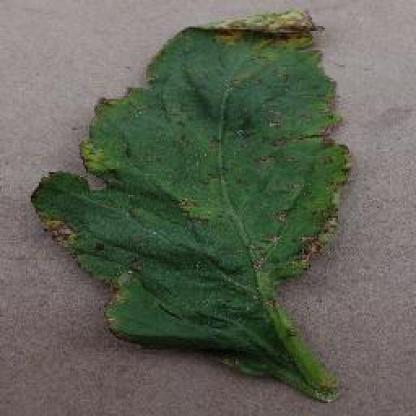bad leaf: (23, 8, 382, 408)
